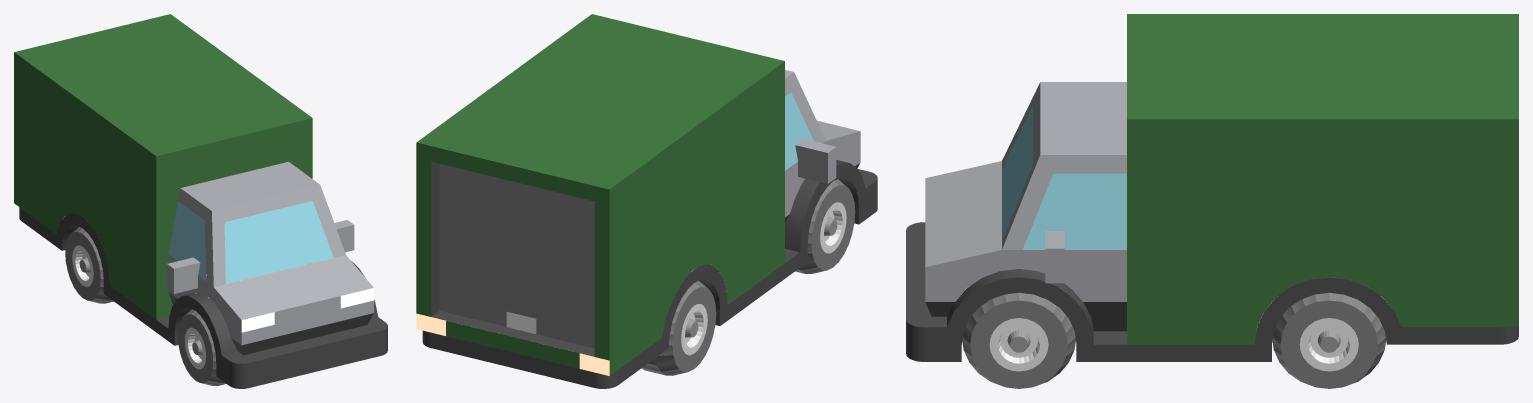
The model's file is delivery-truck.glb.
The picture shows the model from 3 angles, left to right: view 1: azimuth 30°, elevation 25°; view 2: azimuth 150°, elevation 25°; view 3: azimuth 270°, elevation 25°; orthographic projection. The views are drawn at different scales.
Parts seen in each view (by area): view 1: body, wheel_backRight, wheel_frontRight; view 2: body, door, wheel_backRight, wheel_frontRight; view 3: body, wheel_backLeft, wheel_frontLeft.
Part boxes in pixels (x1=…): body: x1=14, y1=14, x2=387, y2=388; wheel_backRight: x1=65, y1=222, x2=113, y2=303; wheel_frontRight: x1=177, y1=309, x2=225, y2=385; body: x1=416, y1=14, x2=877, y2=388; door: x1=439, y1=164, x2=594, y2=348; wheel_backRight: x1=641, y1=281, x2=716, y2=375; wheel_frontRight: x1=795, y1=179, x2=855, y2=273; body: x1=906, y1=14, x2=1518, y2=361; wheel_backLeft: x1=1272, y1=277, x2=1385, y2=388; wheel_frontLeft: x1=962, y1=292, x2=1075, y2=388.
Bounding box in the file's own units: 3.28 × 3.5 × 7.
